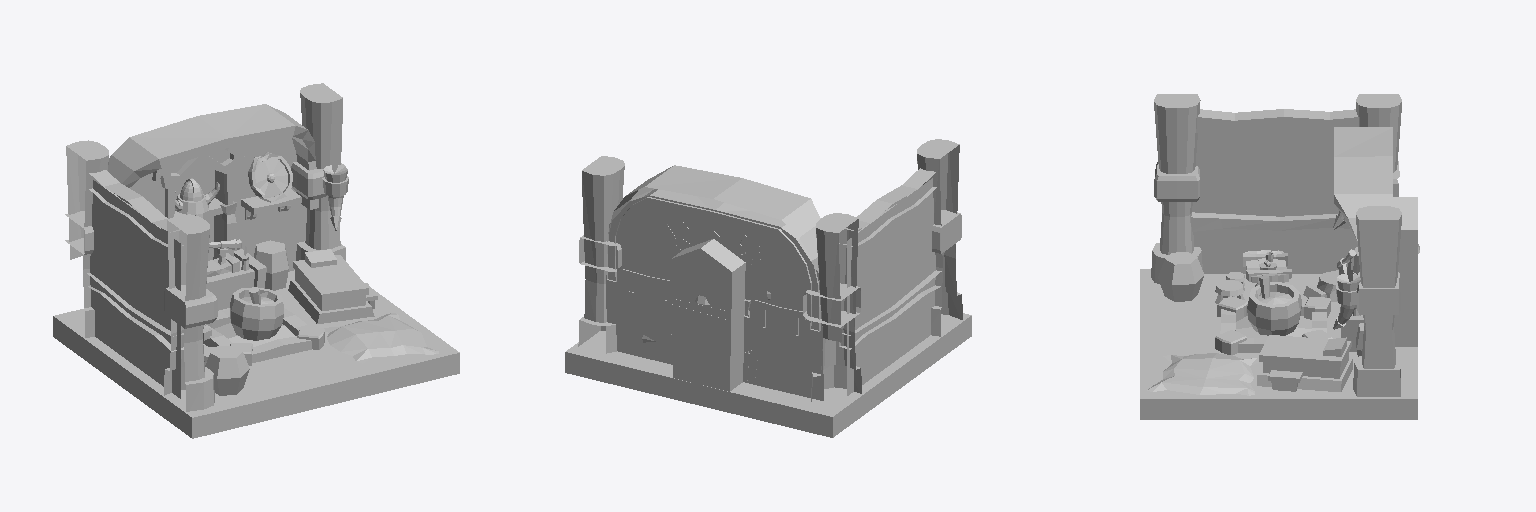
File: vikingroom.obj
The picture shows the model from 3 angles: view 1: azimuth 30°, elevation 25°; view 2: azimuth 150°, elevation 25°; view 3: azimuth 270°, elevation 25°; orthographic projection.
Parts seen in each view (by area): view 1: mesh_all1; view 2: mesh_all1; view 3: mesh_all1.
Part boxes in pixels (left/top/right/bottom): mesh_all1: left=53, top=83, right=459, bottom=438; mesh_all1: left=565, top=139, right=971, bottom=437; mesh_all1: left=1140, top=94, right=1419, bottom=419.
Bounding box in the file's own units: 5.26 × 3.72 × 4.78.